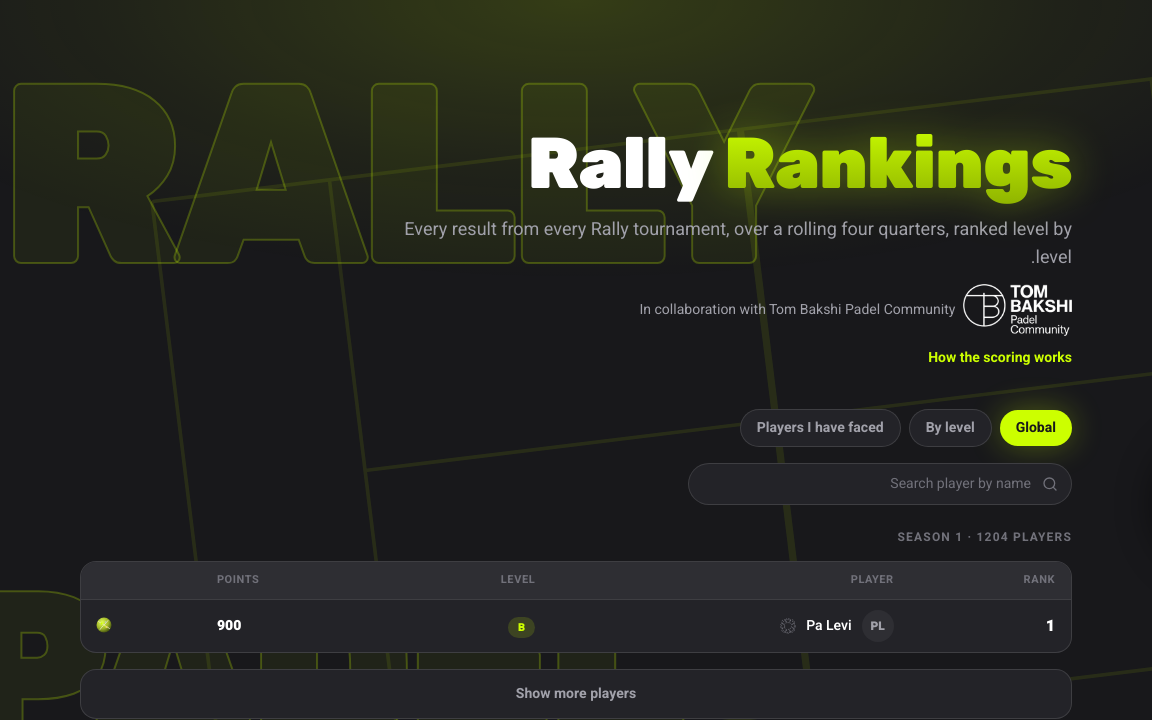
Test: the level picker default › assumes nothing for a signed-out visitor: the picker still waits for a choice
The width and height of the screenshot is (1152, 720).
Check: the table is shown, box [81, 562, 1071, 652]
Click the button "By level": coordinates (950, 428) [909, 409, 992, 447]
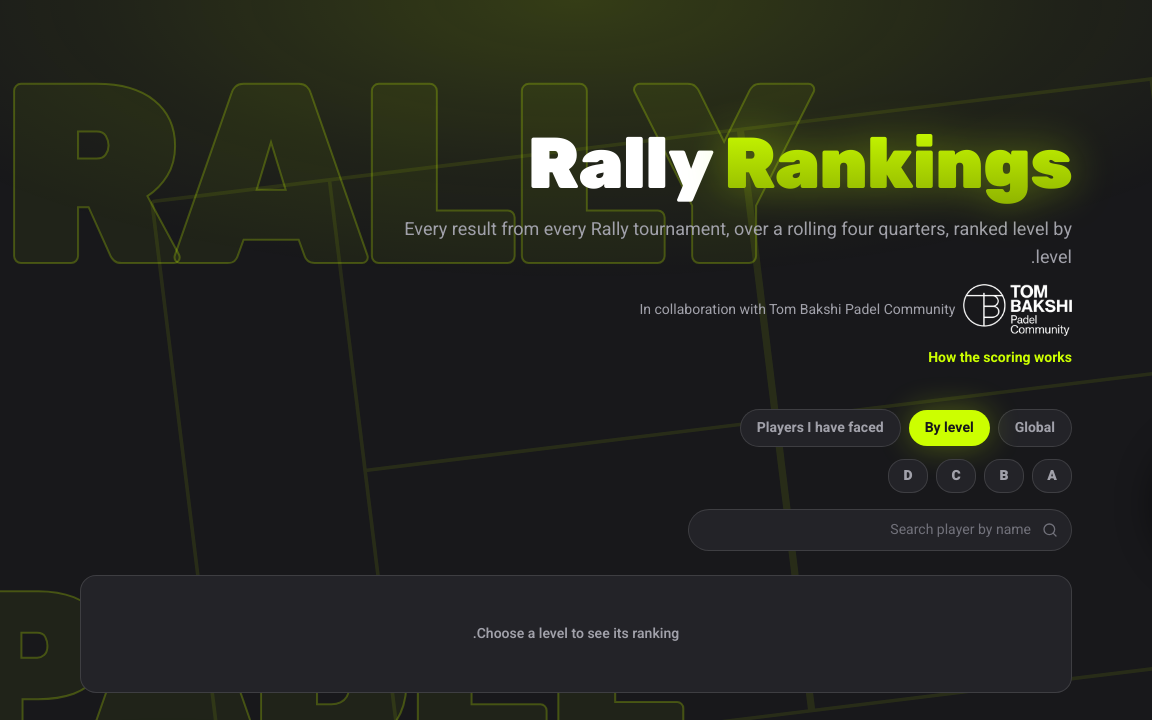
Check: the text "Choose a level to see its ranking." is shown, box [80, 575, 1072, 693]
